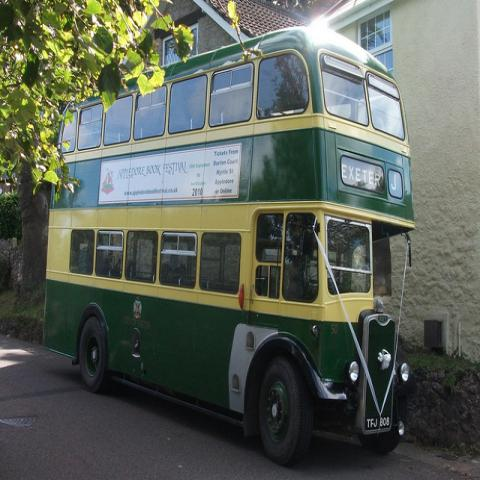bus: (44, 23, 415, 465)
